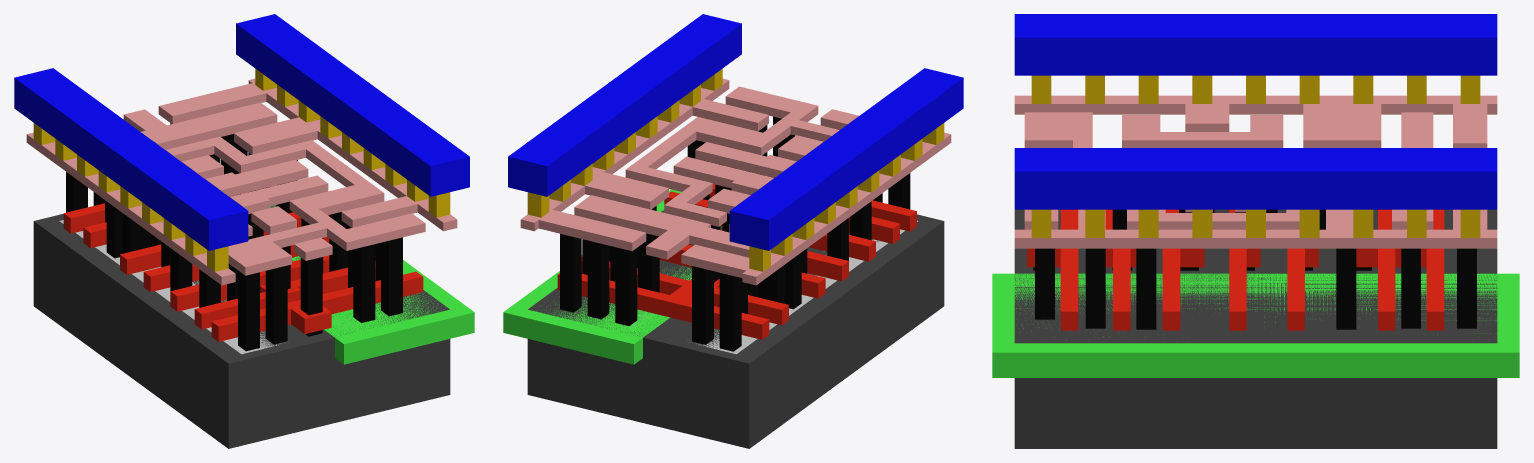
The model's file is sky130_fd_sc_hd__o311a_2.obj.
3 views of the same model, side by side, from view 1: azimuth 30°, elevation 25°; view 2: azimuth 150°, elevation 25°; view 3: azimuth 270°, elevation 25° (orthographic). The views are drawn at different scales.
Visible parts, largest first — view 1: subs, li, metal1, licon, poly, nwell, mcon, diff; view 2: subs, li, metal1, licon, poly, nwell, mcon, diff; view 3: metal1, subs, li, nwell, poly, mcon, licon.
Boxes of the visible parts, x1,y1,x2,y2 form: subs: [33, 205, 450, 448]; li: [26, 78, 457, 285]; metal1: [14, 14, 469, 250]; licon: [66, 123, 402, 351]; poly: [63, 185, 423, 341]; nwell: [270, 205, 474, 364]; mcon: [33, 68, 450, 271]; diff: [59, 220, 281, 354]; subs: [527, 210, 944, 448]; li: [520, 78, 951, 285]; metal1: [508, 14, 963, 250]; licon: [560, 116, 910, 351]; poly: [557, 176, 916, 339]; nwell: [503, 189, 691, 364]; mcon: [527, 68, 944, 271]; diff: [696, 220, 918, 354]; metal1: [1014, 14, 1497, 209]; subs: [1014, 209, 1497, 448]; li: [1014, 95, 1497, 248]; nwell: [992, 273, 1519, 377]; poly: [1027, 209, 1444, 330]; mcon: [1031, 75, 1480, 237]; licon: [1033, 209, 1476, 329].
Bounding box in the file's own units: 3.2 × 2.74 × 4.52.
